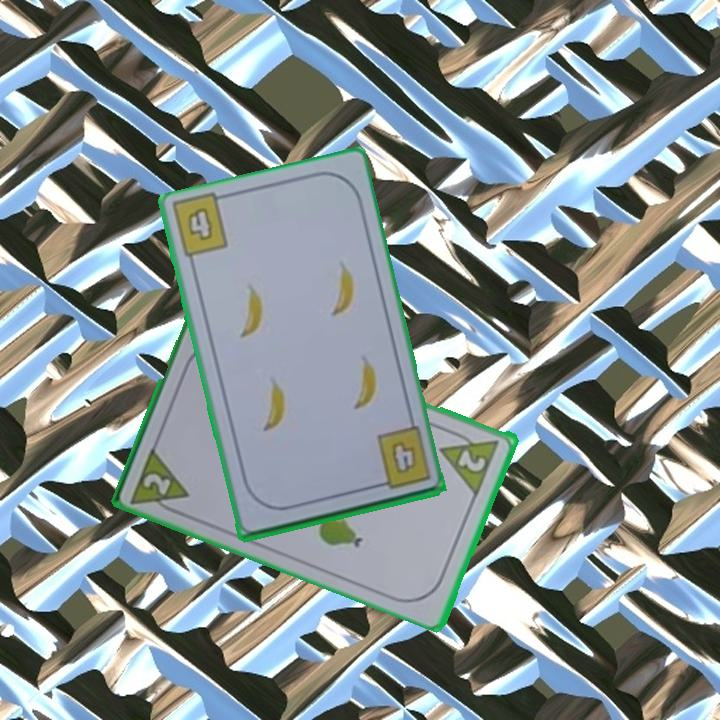2p: (127, 442, 193, 519), (436, 424, 503, 497)
4b: (369, 423, 434, 493), (183, 203, 216, 244)
